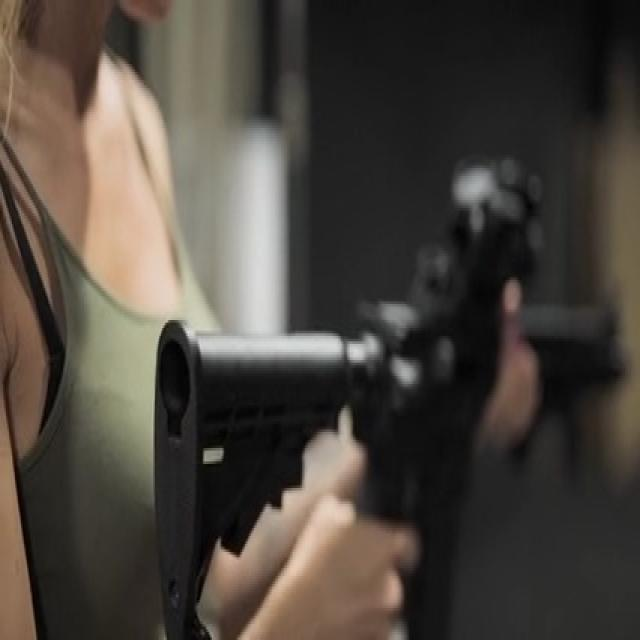Gun_Holder: (158, 113, 640, 640)
